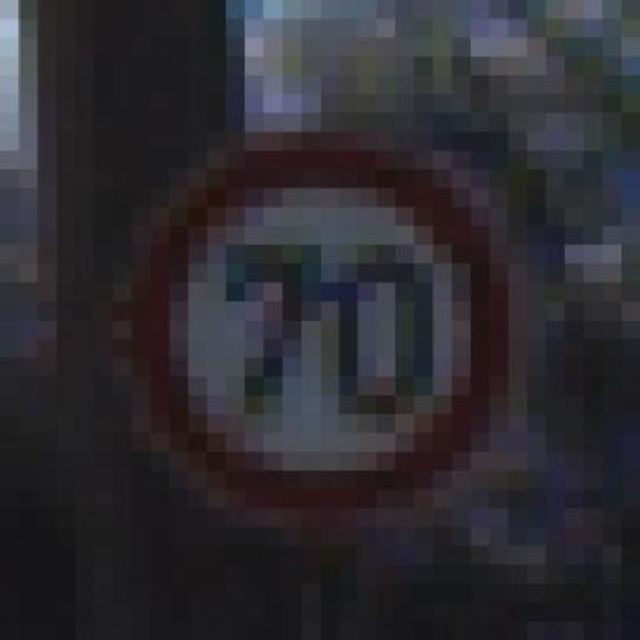forb_speed_over_70: (134, 136, 508, 515)
